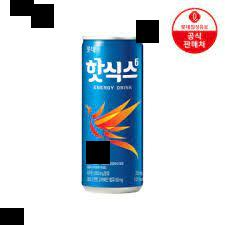hotsix_org: (78, 34, 148, 197)
